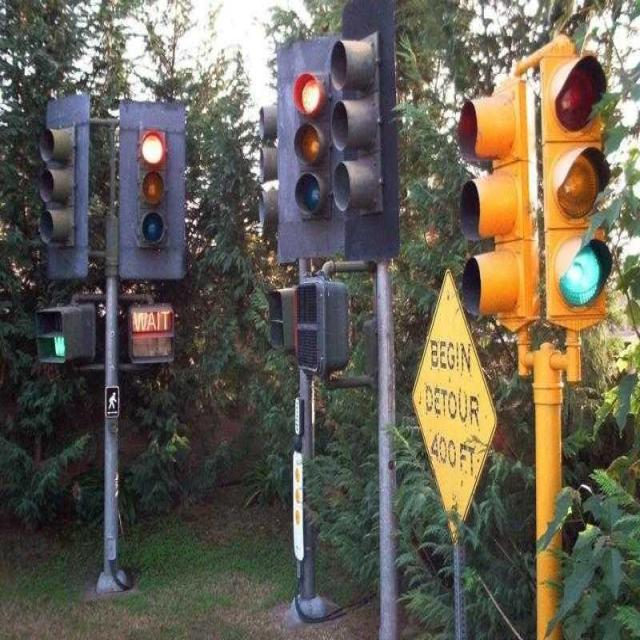Traffic Light -Green-: (540, 54, 618, 324)
Traffic Light -Red-: (287, 67, 336, 230), (132, 122, 174, 260)
